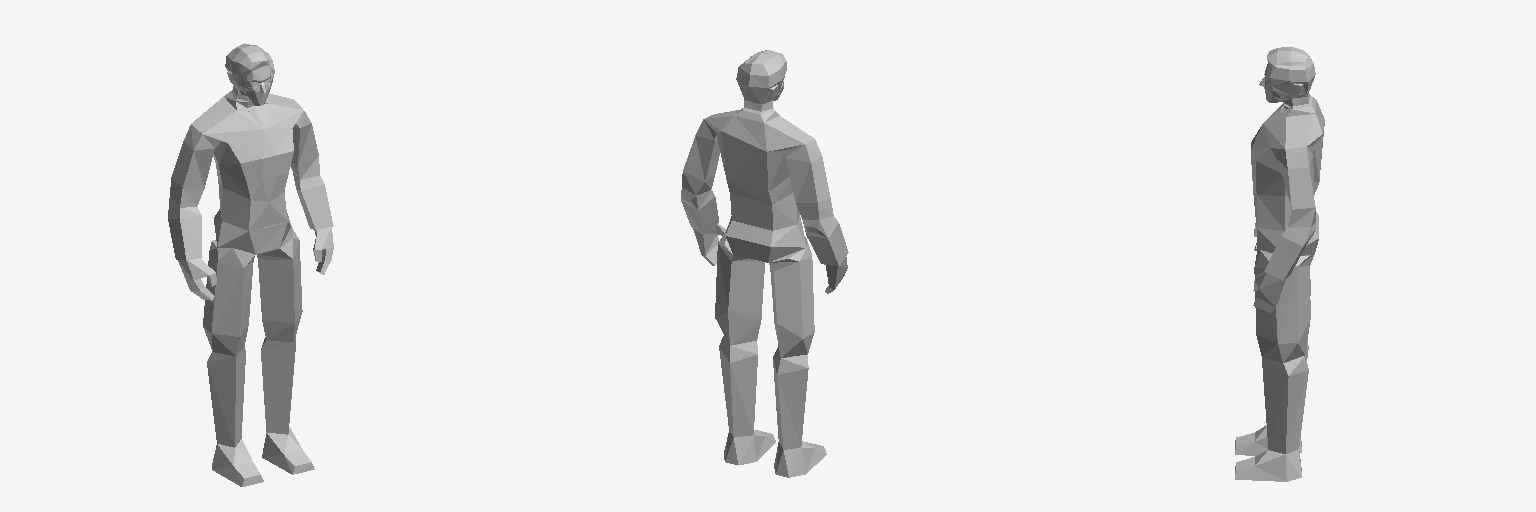
Rendered from Manuel117.obj.
3 views of the same model, side by side, from view 1: azimuth 30°, elevation 25°; view 2: azimuth 150°, elevation 25°; view 3: azimuth 270°, elevation 25° (orthographic).
Visible parts, largest first — view 1: leon; view 2: leon; view 3: leon.
Boxes of the visible parts, box(x1,y1,x2,y2) form: leon: box(168, 43, 333, 486); leon: box(681, 50, 848, 477); leon: box(1235, 47, 1324, 481).
Bounding box in the file's own units: 4.68 × 12.19 × 2.41.